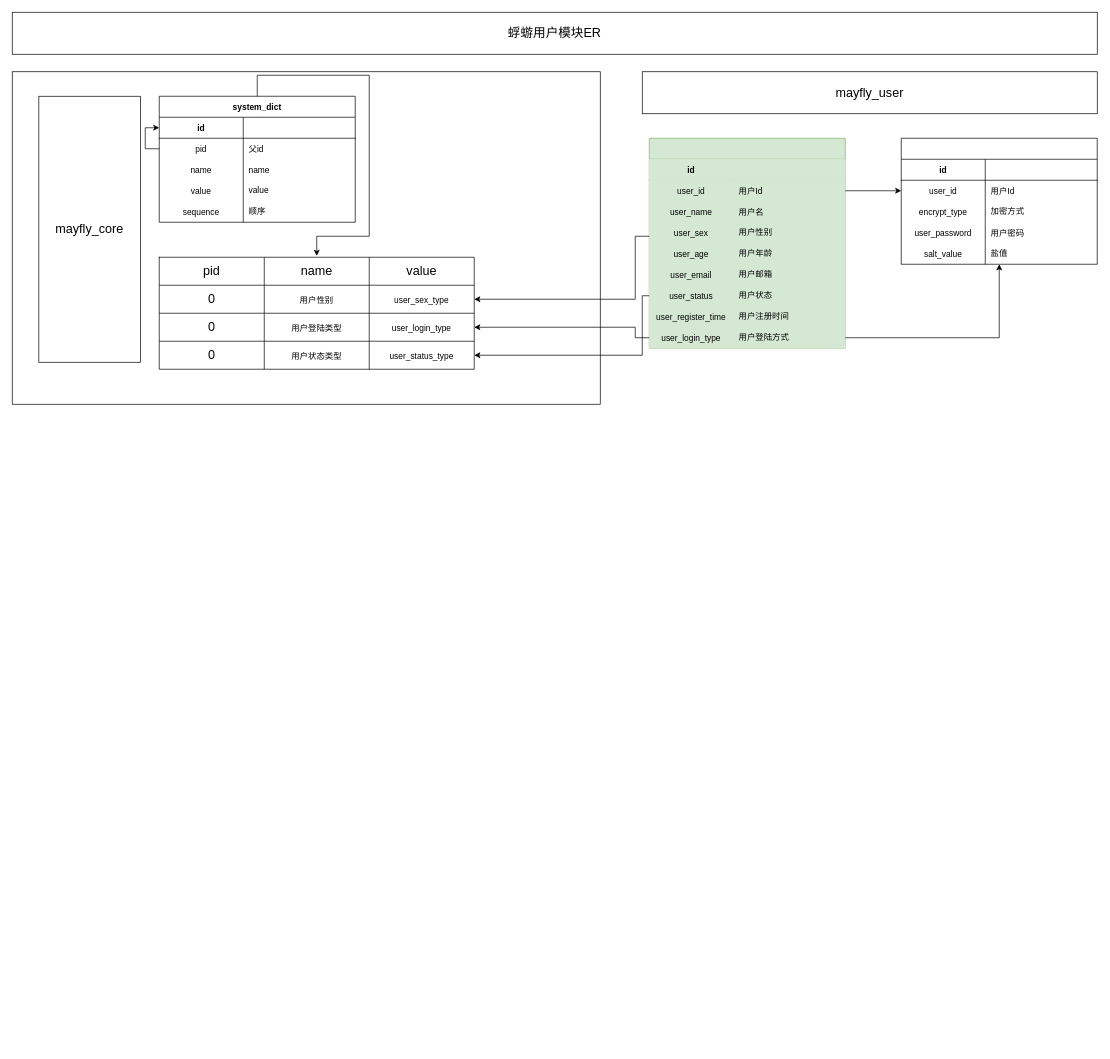
The diagram is 1110 pixels wide and 1059 high, and some of its shapes have lost their labels. Each missing label, with the box of its shape:
user_info: (649, 138, 845, 348)
user_login_password: (901, 138, 1097, 264)
